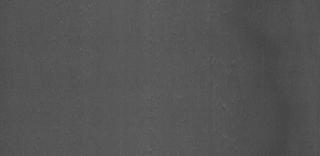silk spot: (198, 51, 254, 89), (203, 96, 251, 136), (134, 11, 180, 48)
